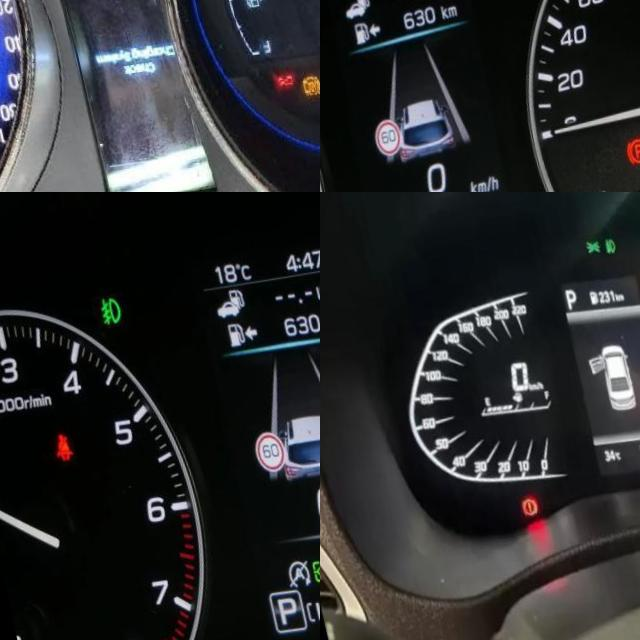Seat Belt: (36, 434, 61, 468)
